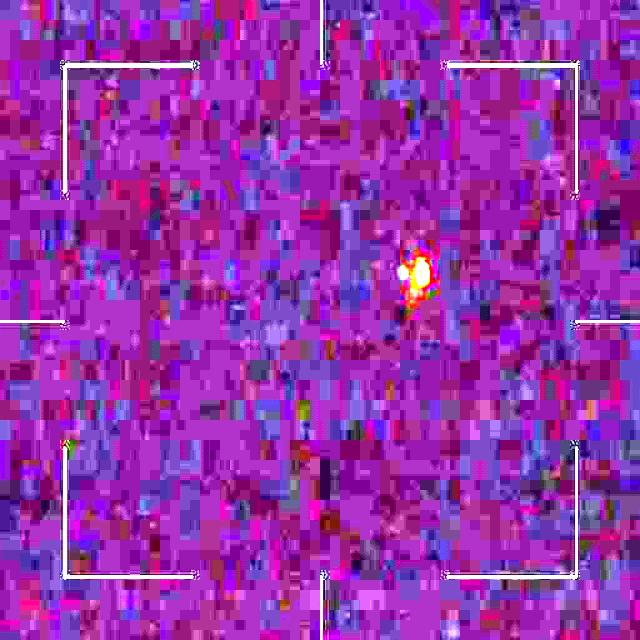bird: (399, 255, 430, 305)
